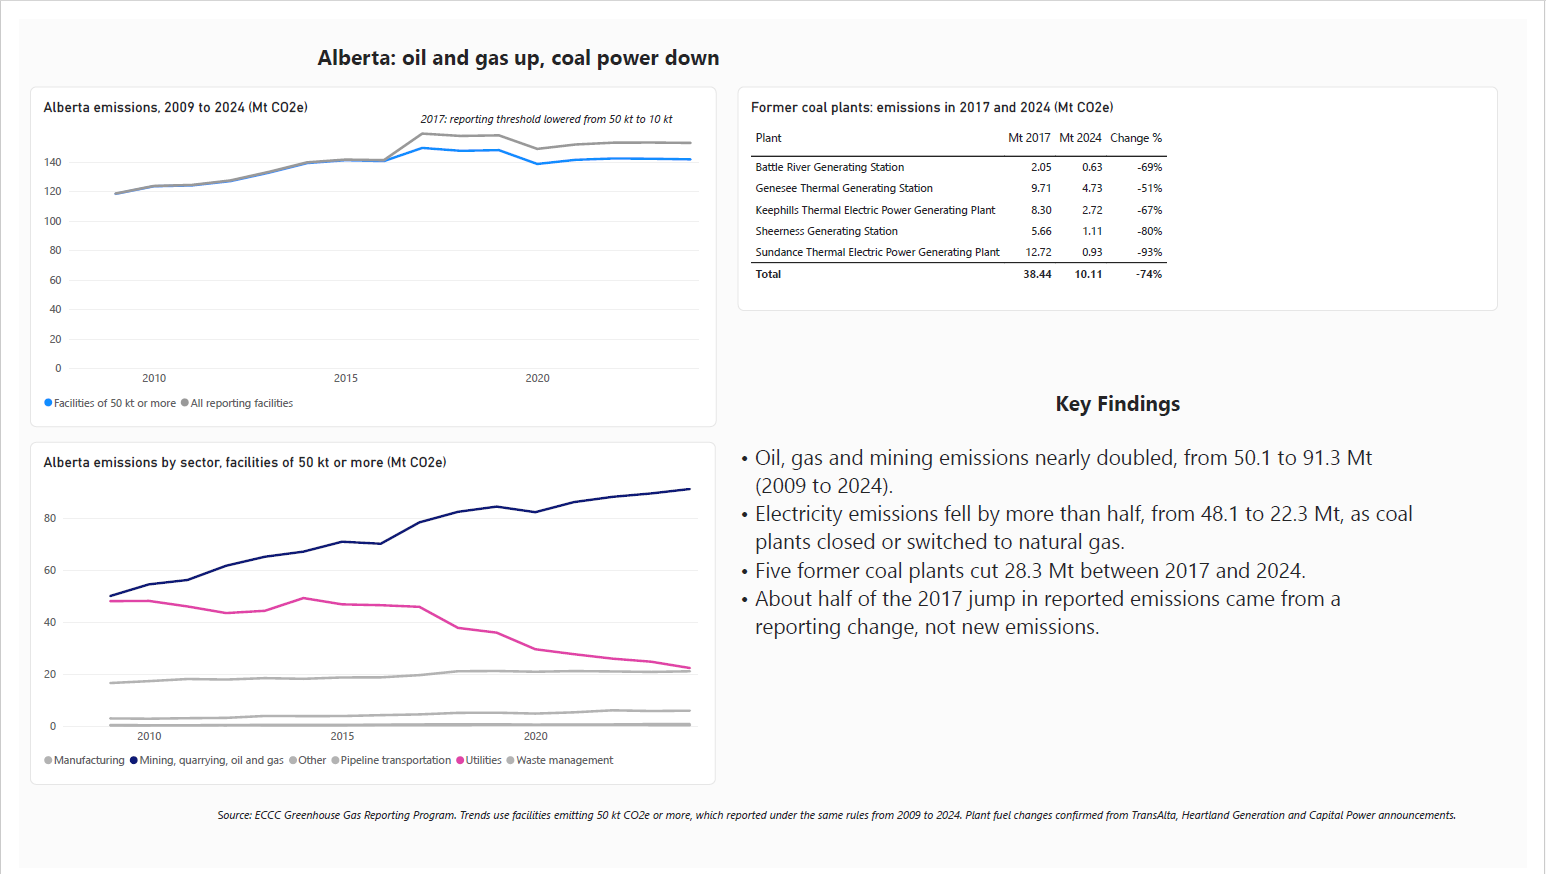

What the dashboard file says about the page in this screenshot:
{"tool":"powerbi","page":{"name":"Alberta trends","canvas":[1920,1080],"ordinal":1},"visuals":[{"type":"group","id":"g1","title":"Group 1","box":[12.6,84.9,874.5,434.1],"z":0},{"type":"lineChart","title":"Alberta emissions, 2009 to 2024 (Mt CO2e)","fields":{"Category":["emissions.year"],"Y":["emissions.Large facilities Mt","emissions.Total Mt"]},"box":[12.6,84.9,874.5,434.1],"z":0,"group":"g1"},{"type":"tableEx","title":"Former coal plants: emissions in 2017 and 2024 (Mt CO2e)","fields":{"Values":["emissions.facility_name","emissions.Mt 2017","emissions.Mt 2024","emissions.Change %"]},"box":[915.4,84.9,968.9,286.3],"z":1000},{"type":"textbox","box":[506.2,115.7,340.9,21.4],"z":1000,"group":"g1"},{"type":"lineChart","title":"Alberta emissions by sector, facilities of 50 kt or more (Mt CO2e)","fields":{"Category":["emissions.year"],"Series":["emissions.sector"],"Y":["emissions.Large facilities Mt"]},"box":[12.6,537.9,874.5,437.3],"z":2000},{"type":"textbox","box":[896.6,537.9,887.1,355.5],"z":3000},{"type":"textbox","box":[251.7,1003.5,1632.7,40.9],"z":4000},{"type":"textbox","box":[100.7,28.3,1069.6,56.6],"z":5000},{"type":"textbox","box":[915.4,468.7,968.9,50.3],"z":5001}]}

Visuals, with their boxes in screenshot pixels (x1, y1, x2, y2), scaled from the page's 1920x1080 canvas onto the 1546x874 screenshot:
"Group 1" group: detection(10, 69, 714, 420)
"Alberta emissions, 2009 to 2024 (Mt CO2e)" lineChart: detection(10, 69, 714, 420)
"Former coal plants: emissions in 2017 and 2024 (Mt CO2e)" tableEx: detection(737, 69, 1517, 300)
textbox: detection(408, 94, 682, 111)
"Alberta emissions by sector, facilities of 50 kt or more (Mt CO2e)" lineChart: detection(10, 435, 714, 789)
textbox: detection(722, 435, 1436, 723)
textbox: detection(203, 812, 1517, 845)
textbox: detection(81, 23, 942, 69)
textbox: detection(737, 379, 1517, 420)
